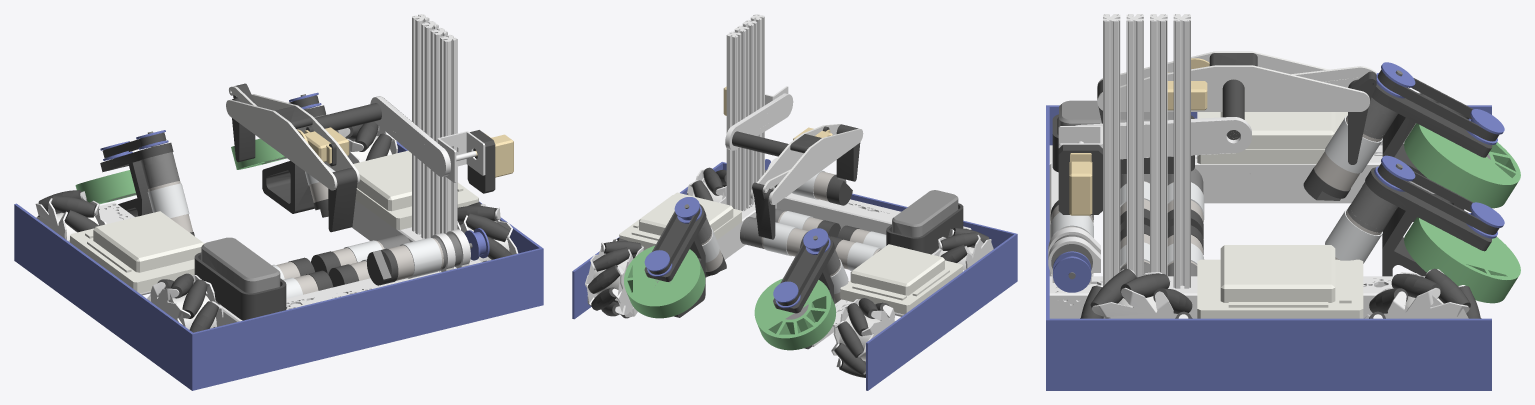
Rendered from Ri1W_RoboJackets.fbx.
3 renders of one model, left to right at view 1: azimuth 30°, elevation 25°; view 2: azimuth 150°, elevation 25°; view 3: azimuth 270°, elevation 25°, orthographic. The views are drawn at different scales.
Parts seen in each view (by area): view 1: Body1.079, Body33, Body36, Body3, Body2.005, Body2.009, Body1.066, Body1.068, Body1.062, Body1.085, Body2.002, Body2.003 (+33 smaller); view 2: Body1.079, Body33, Body1.023, Body1.052, Body36, Body1, Body2.002, Body3, Body2.009, Body1.085, Body1.075, Body1.062 (+32 smaller); view 3: Body1.079, Body36, Body6, Body1.052, Body1.023, Body33, Body2.010, Body2.002, Body2.005, Body2.004, Body2.003, Body1.085 (+42 smaller).
Part boxes in pixels (x1,y1,x2,y2): Body1.079: (14, 141, 543, 390); Body33: (70, 211, 204, 293); Body36: (353, 150, 478, 229); Body3: (226, 99, 337, 190); Body2.005: (440, 34, 457, 233); Body2.009: (201, 237, 280, 293); Body1.066: (367, 237, 443, 285); Body1.068: (194, 252, 286, 320); Body1.062: (370, 96, 476, 176); Body1.085: (262, 105, 326, 213); Body2.002: (412, 14, 429, 234); Body2.003: (421, 21, 438, 238); Body1.079: (572, 162, 1017, 390); Body33: (840, 244, 962, 314); Body1.023: (624, 245, 705, 318); Body1.052: (754, 278, 836, 350); Body36: (619, 192, 741, 250); Body1: (776, 193, 901, 234); Body2.002: (726, 31, 741, 210); Body3: (769, 128, 863, 204); Body2.009: (892, 190, 958, 237); Body1.085: (644, 204, 706, 317); Body1.075: (773, 235, 834, 349); Body1.062: (725, 93, 793, 150); Body1.079: (1046, 105, 1491, 390); Body36: (1197, 245, 1363, 318); Body6: (1097, 65, 1369, 111); Body1.052: (1404, 123, 1520, 208); Body1.023: (1404, 217, 1520, 303); Body33: (1197, 112, 1347, 164); Body2.010: (1049, 145, 1434, 203); Body2.002: (1173, 14, 1190, 288); Body2.005: (1103, 14, 1120, 286); Body2.004: (1126, 14, 1143, 277); Body2.003: (1150, 14, 1167, 275); Body1.085: (1365, 167, 1491, 276).
Size of the model in its own units: 438 by 323 by 409.
